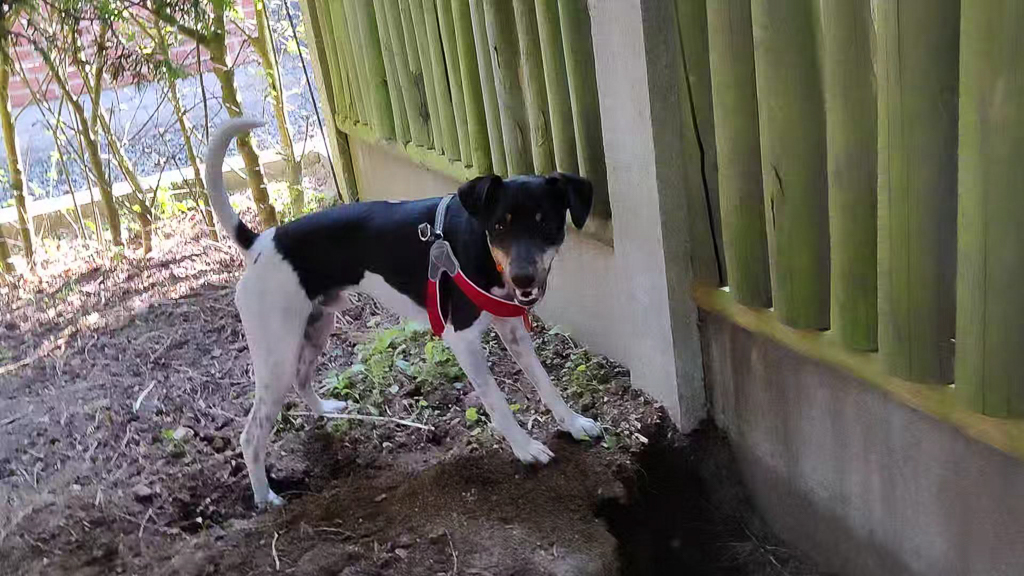Dog: (194, 99, 623, 518)
